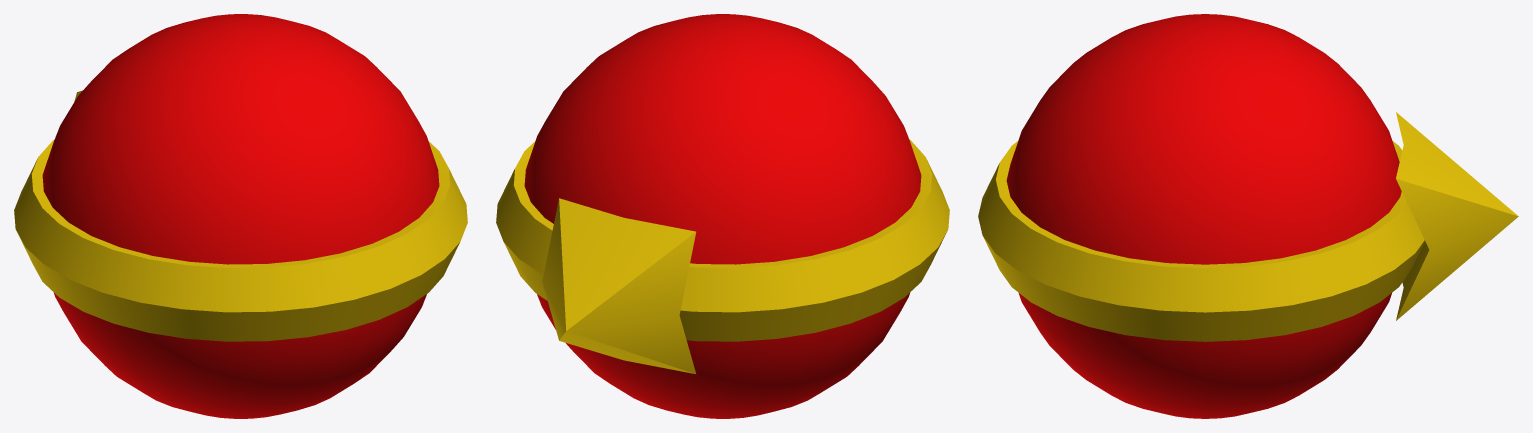
File: P_Character.fbx
3 views of the same model, side by side, from view 1: azimuth 30°, elevation 25°; view 2: azimuth 150°, elevation 25°; view 3: azimuth 270°, elevation 25° (orthographic).
Visible parts, largest first — view 1: Sphere.002; view 2: Sphere.002; view 3: Sphere.002.
Part boxes in pixels (left/top/right/bottom): Sphere.002: left=14, top=14, right=467, bottom=418; Sphere.002: left=496, top=14, right=949, bottom=418; Sphere.002: left=978, top=14, right=1518, bottom=418.
Bounding box in the file's own units: 66.47 × 59.28 × 79.08.
